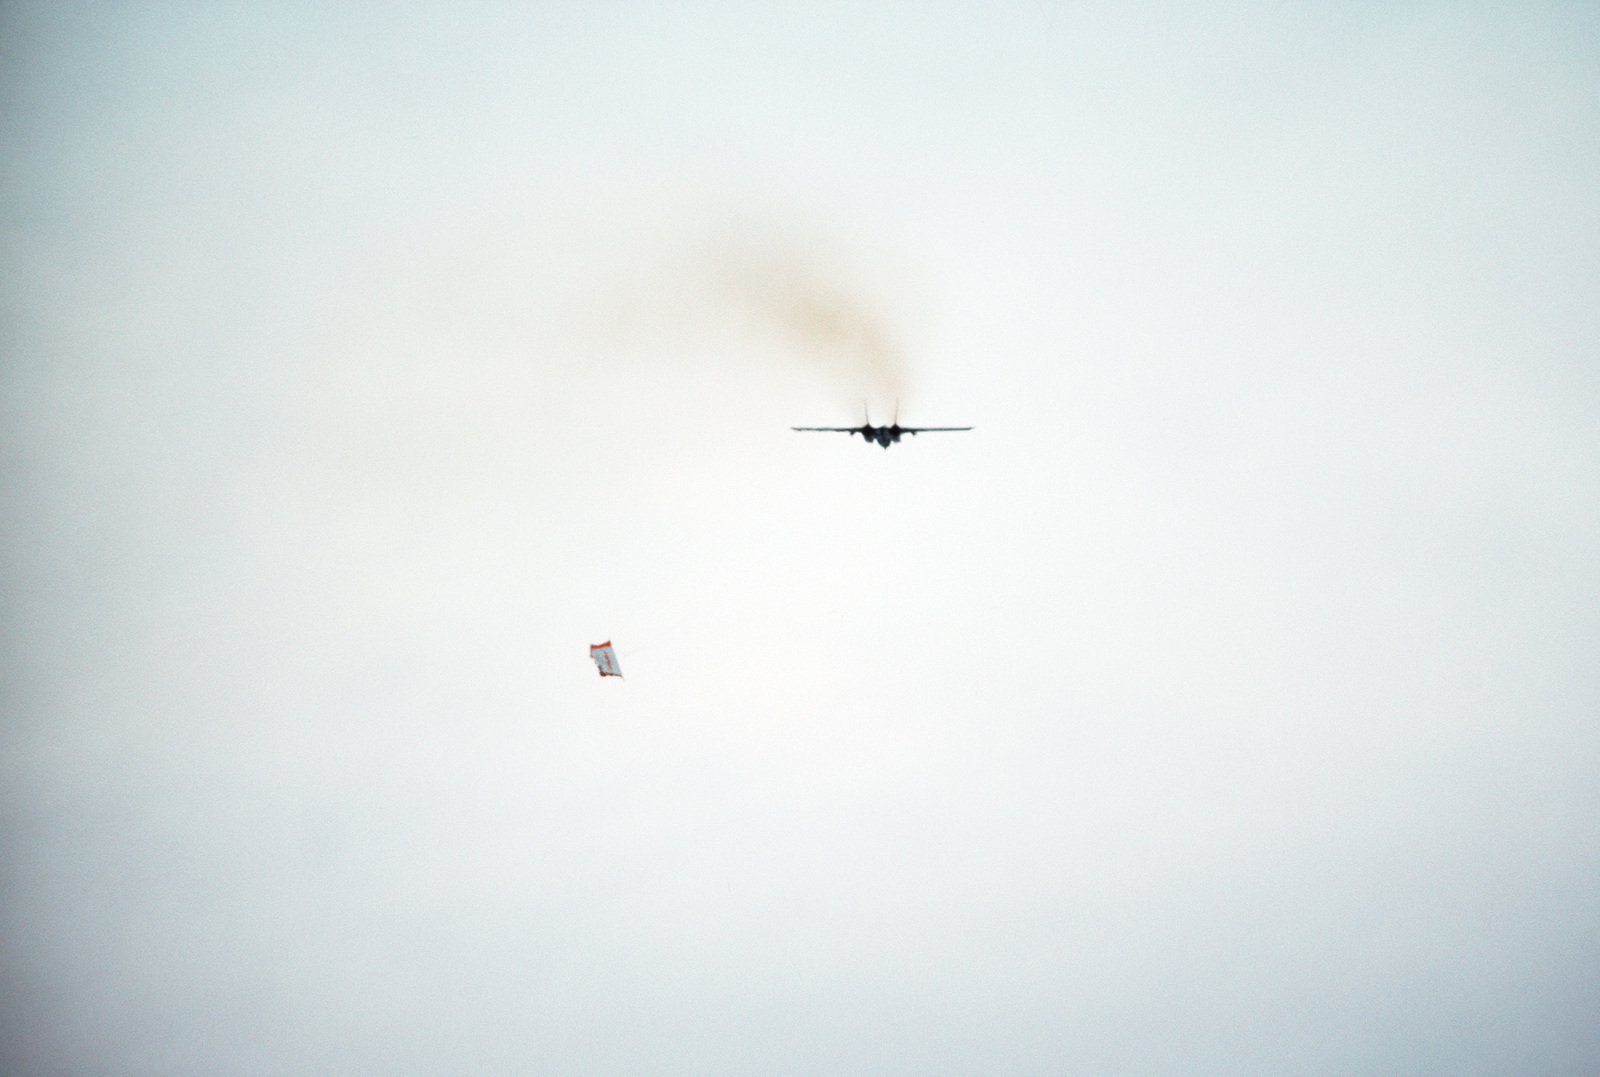F14: (789, 397, 976, 451)
